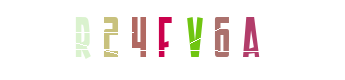2: (101, 0, 181, 80)
4: (122, 0, 202, 80)
6: (154, 0, 234, 80)
A: (208, 0, 288, 80)
F: (132, 0, 212, 80)
R: (61, 0, 141, 80)
V: (144, 0, 224, 80)
